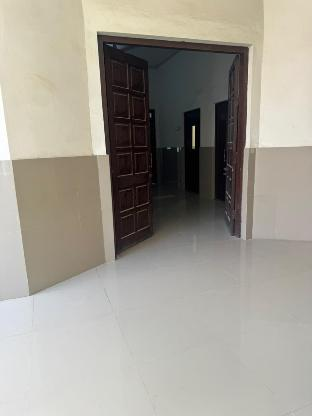door: (90, 26, 246, 252)
